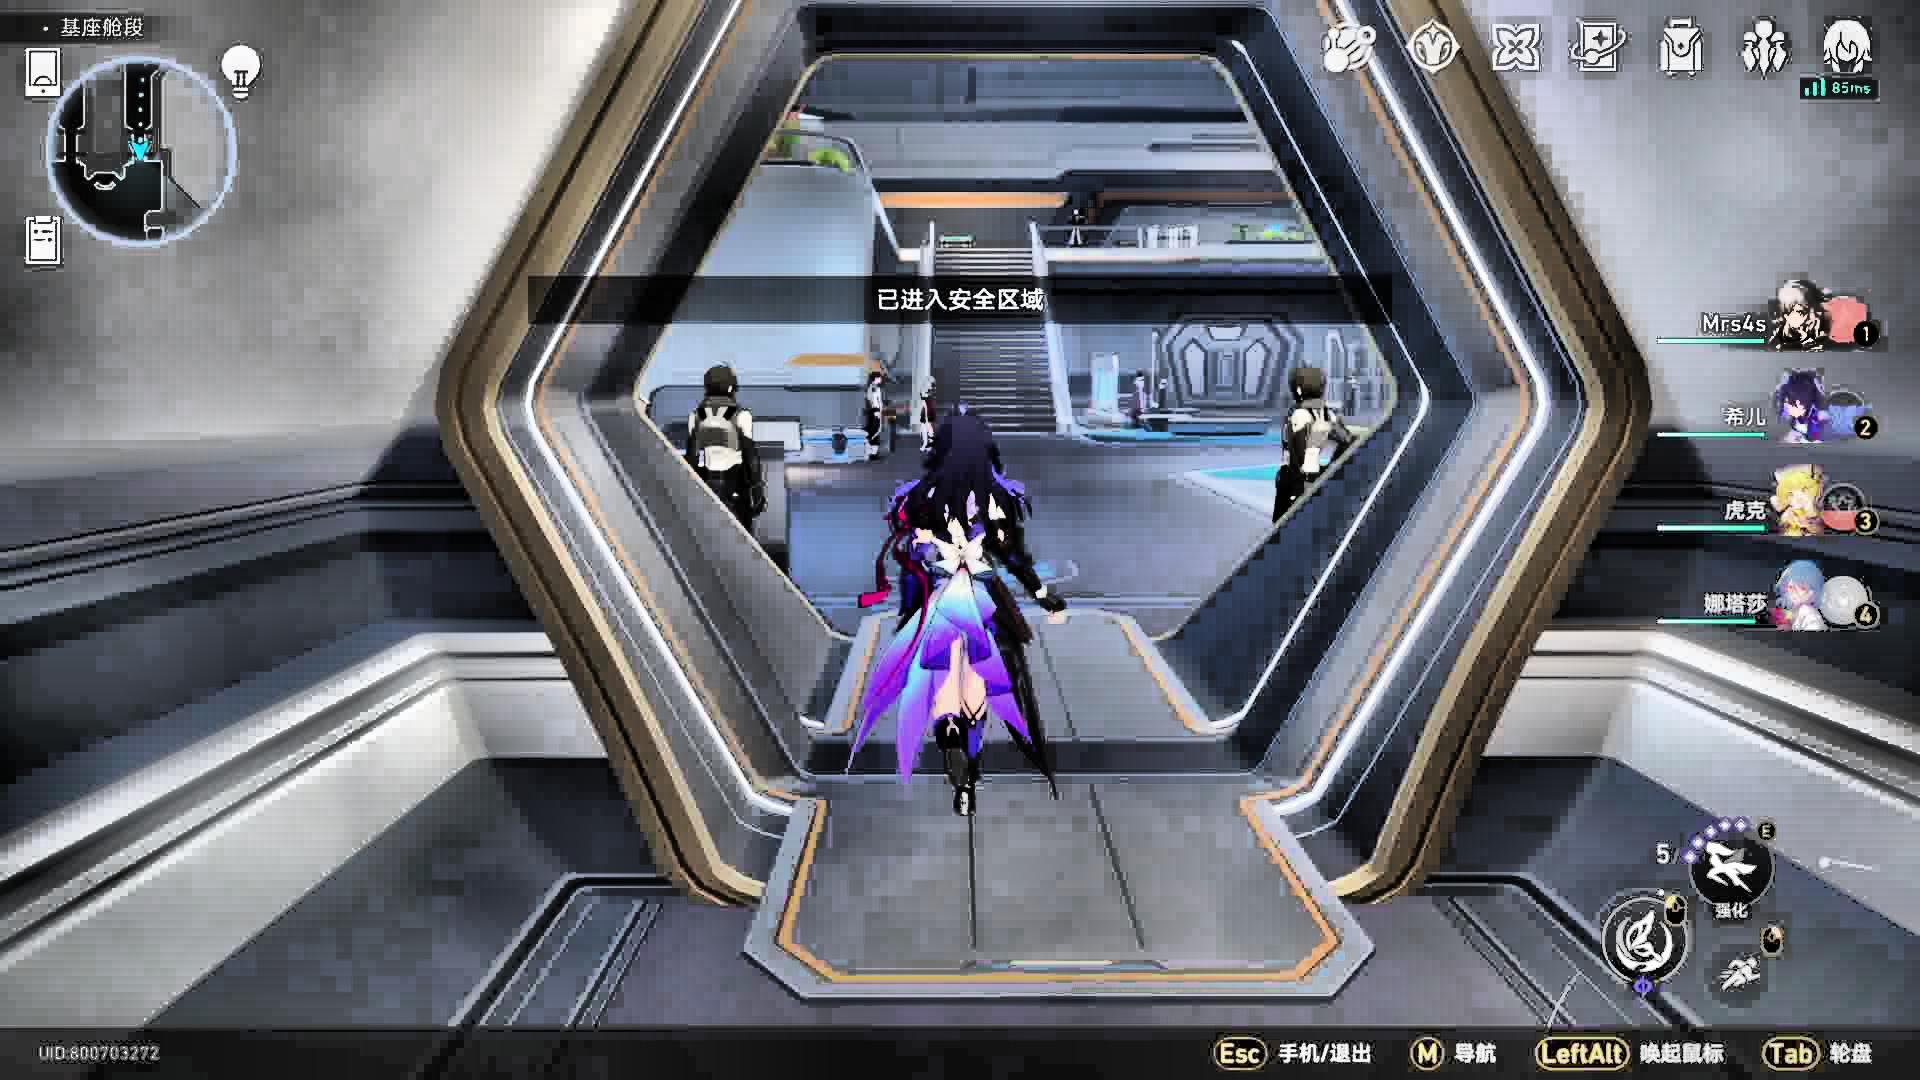TeamMate: (857, 411, 1064, 829), (682, 360, 764, 541), (1271, 367, 1357, 533), (857, 367, 889, 462), (915, 367, 938, 444)
